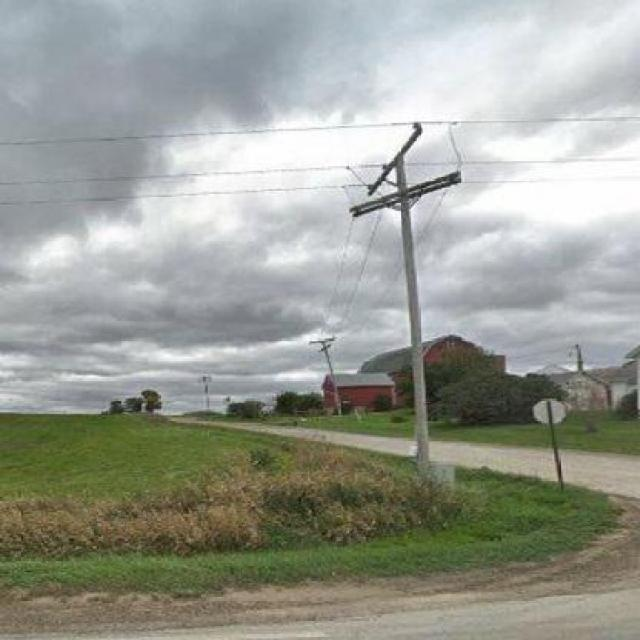pole: (338, 116, 468, 470)
